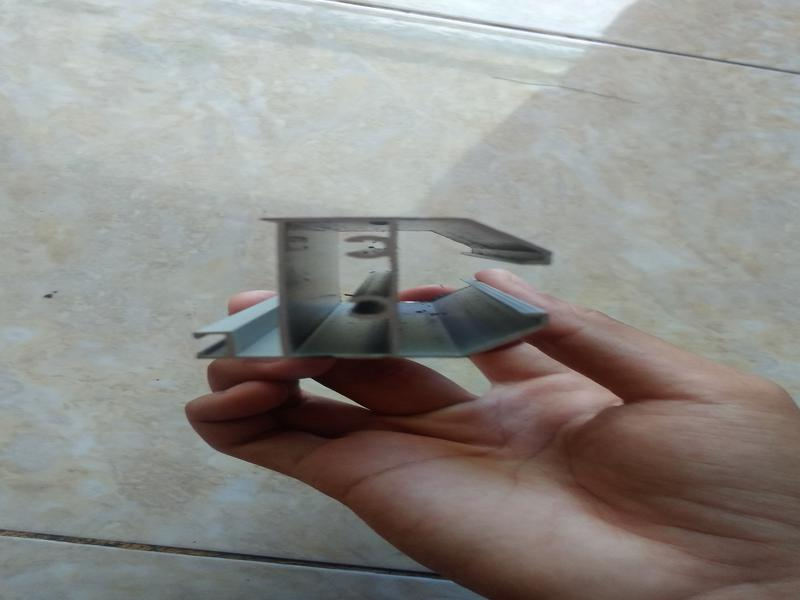Aluminium_3: (178, 201, 567, 374)
